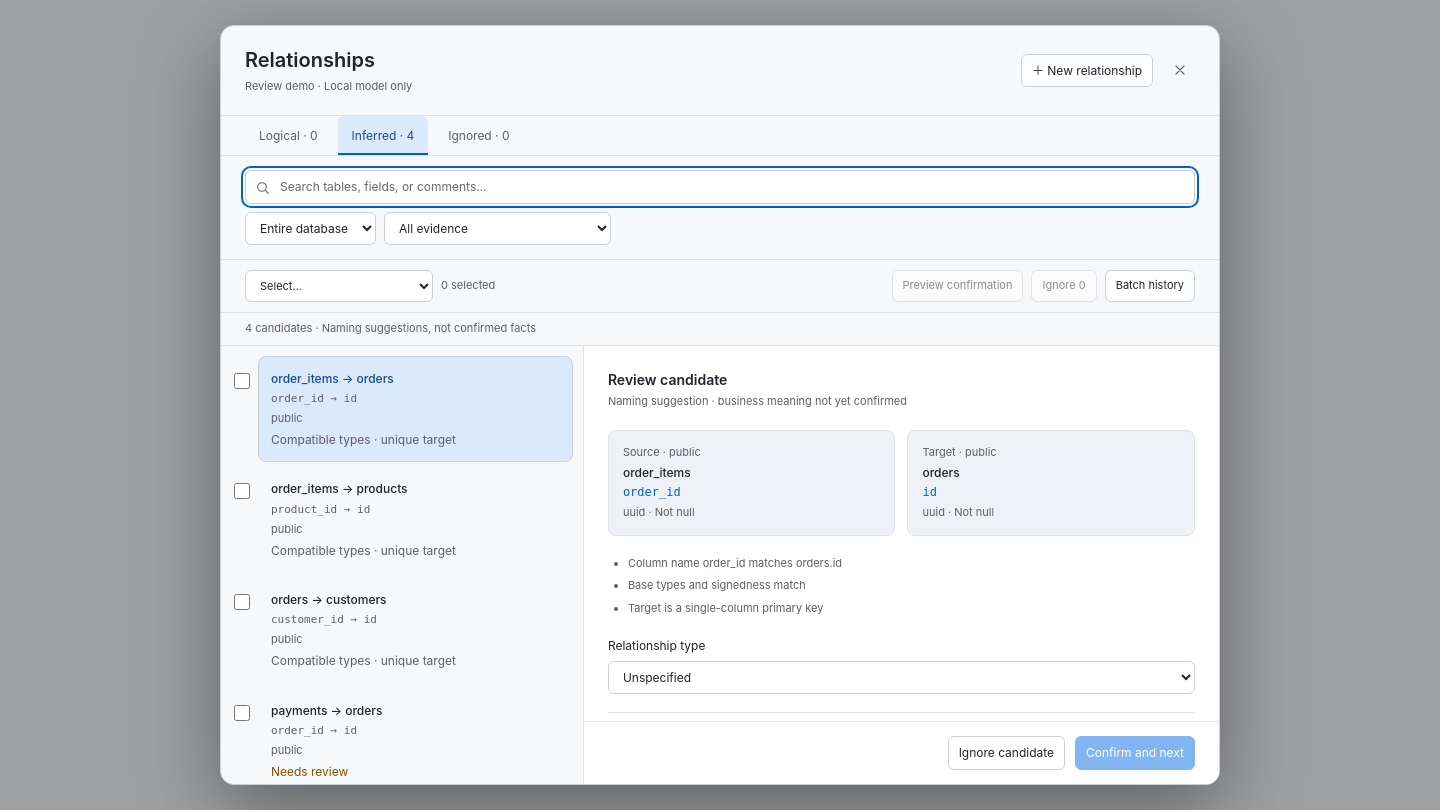
Test: supports batch ignore, restore and durable history entry points
The width and height of the screenshot is (1440, 810).
Select "All filtered · 4" in the dropdown named "Select candidates for batch" at (339, 286), box [245,270,433,302]
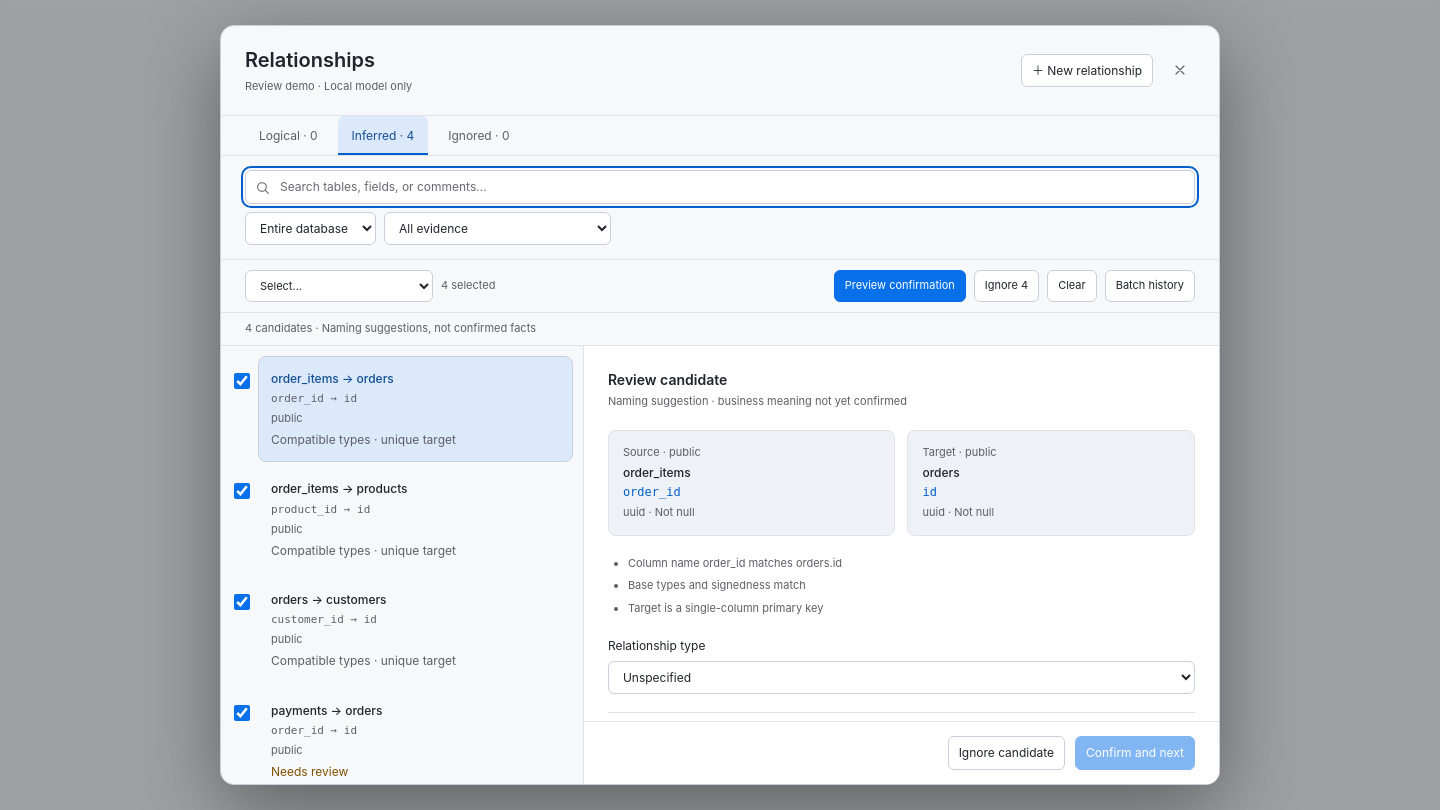
Click the button "Ignore 4".
click(1006, 286)  # box [974,270,1039,302]
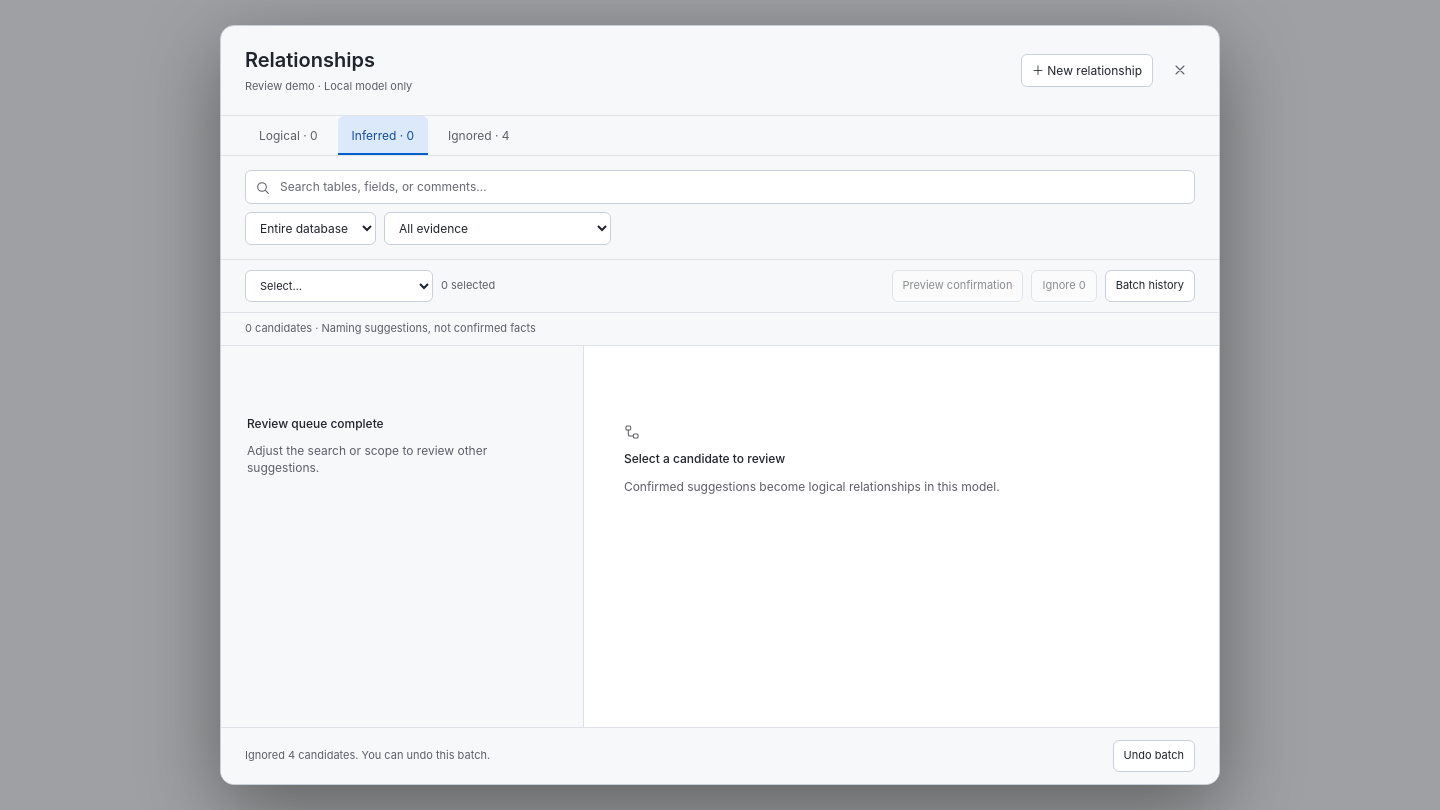
Click the button "Ignored · 4".
click(479, 136)  # box [434,116,523,155]
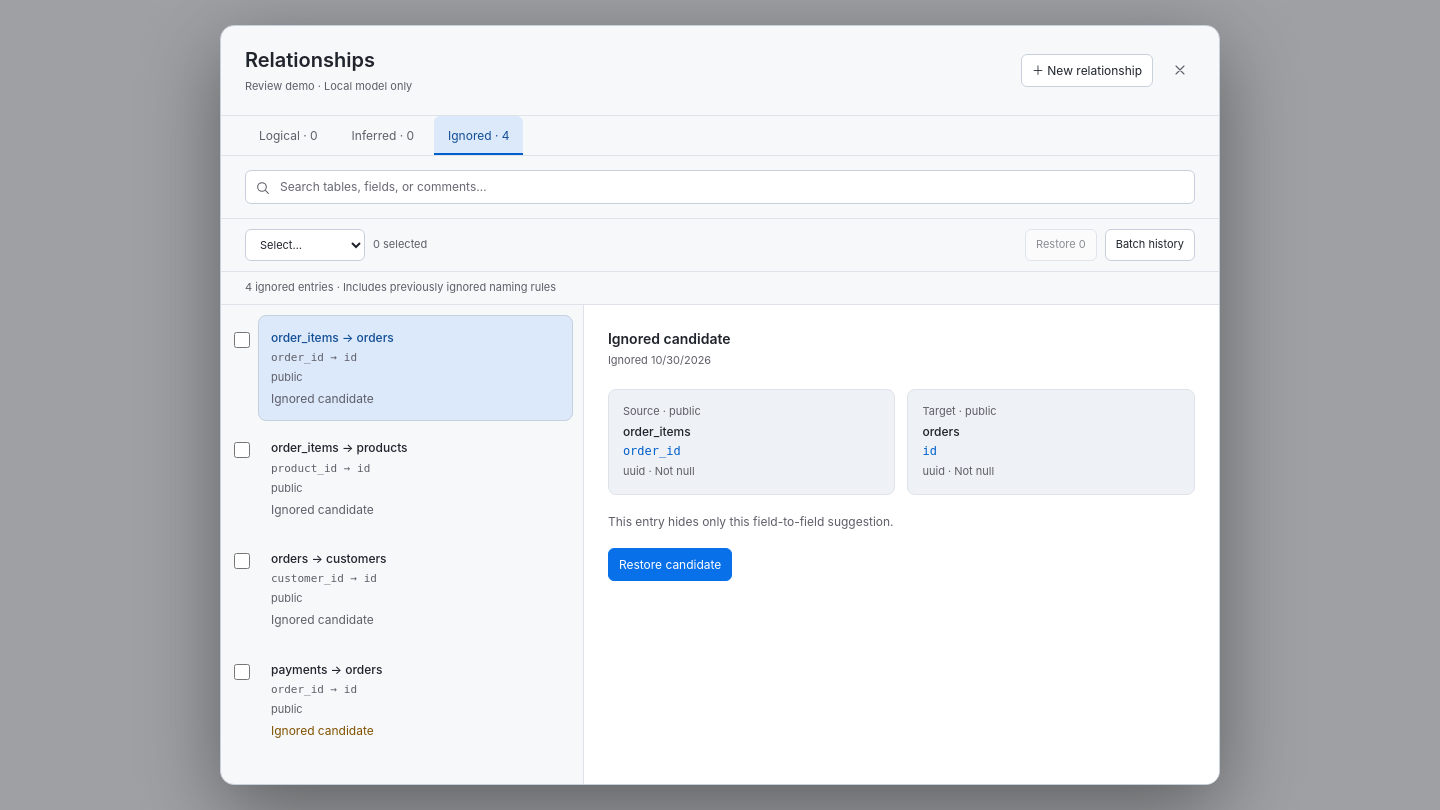
Select "All filtered · 4" in the dropdown named "Select candidates for batch" at (305, 245), box [245,229,365,261]
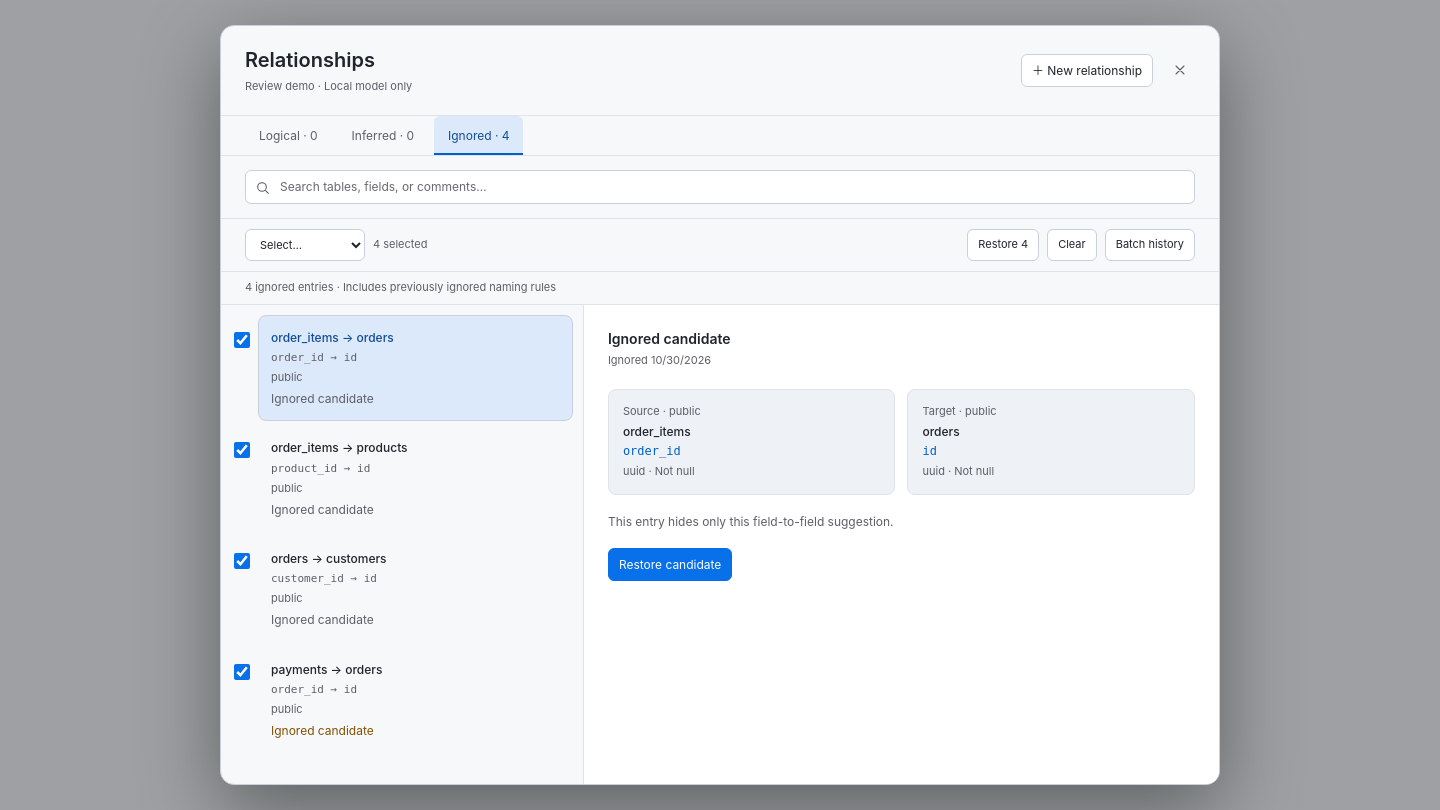
Click the button "Restore 4".
click(1003, 245)  # box [967,229,1039,261]
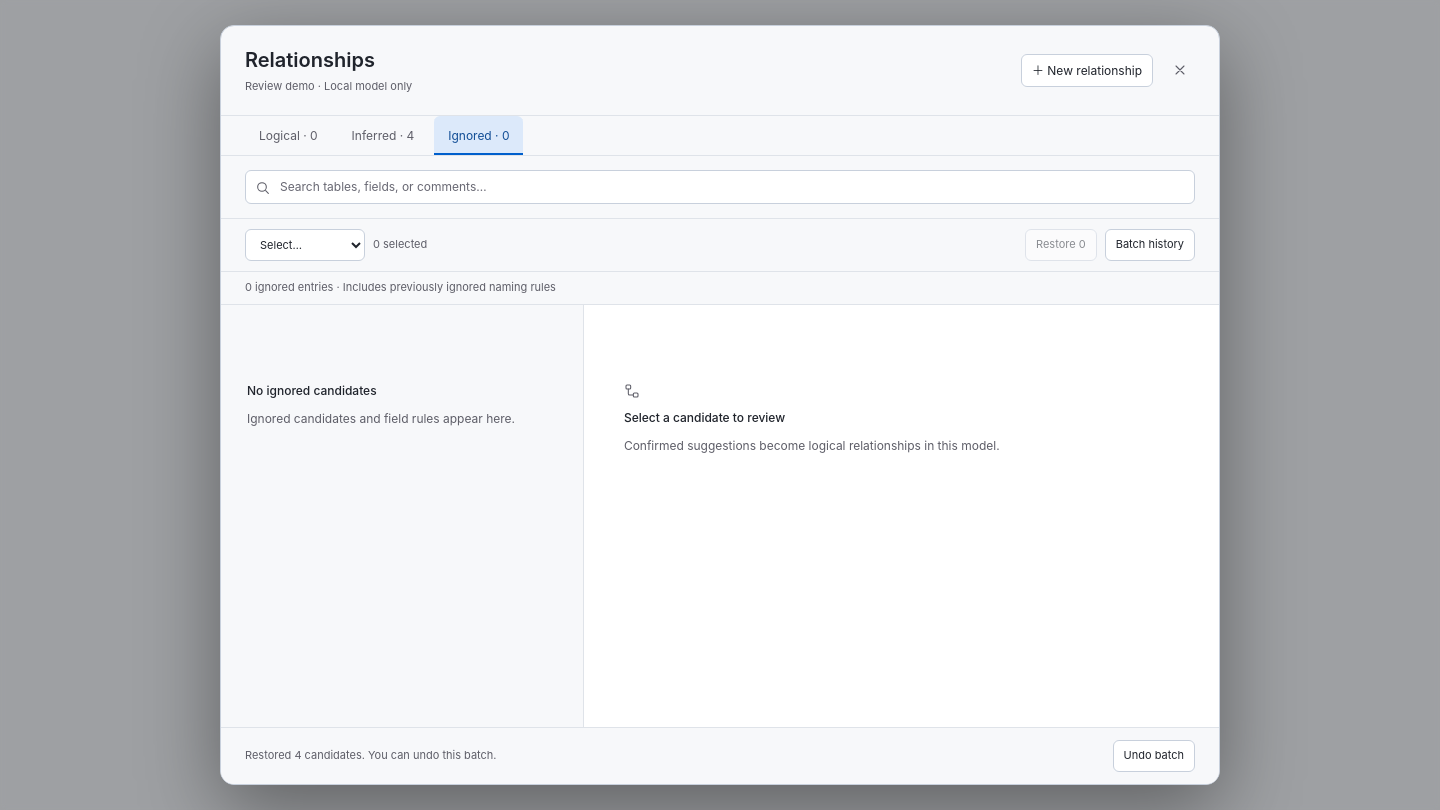
Expected: the button "Ignored · 0" is enabled, [434,116,523,155]
Click the button "Batch history".
click(1150, 245)  # box [1105,229,1195,261]
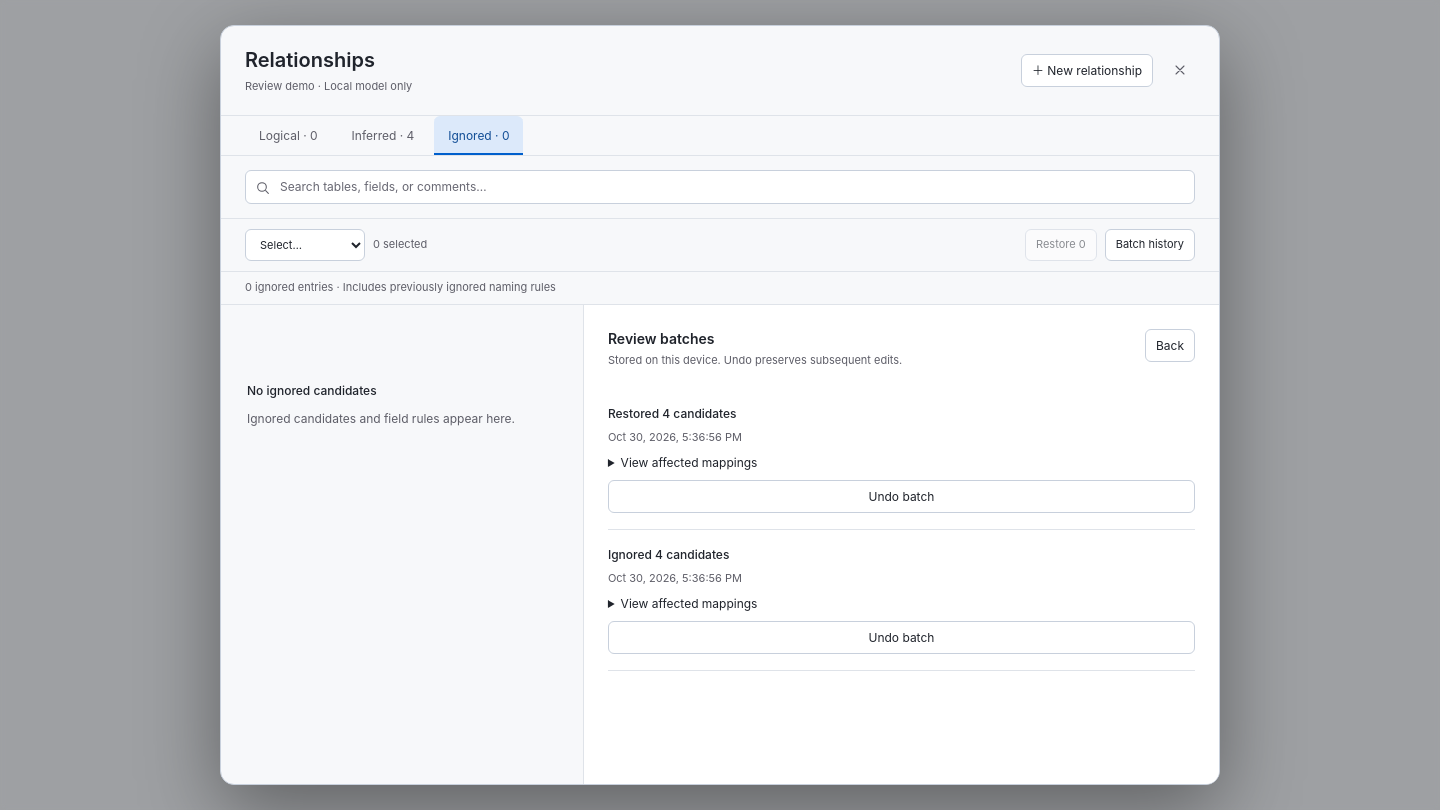
Expected: the text "Restored 4 candidates" is shown, [608,406,736,421]
Expected: the text "Ignored 4 candidates" is shown, [608,547,729,562]
